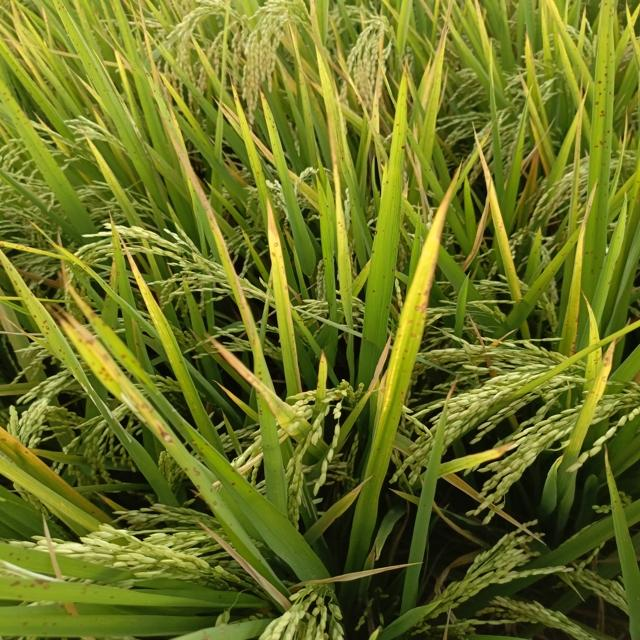Brown spot: (433, 436, 552, 548), (196, 520, 296, 612), (160, 113, 231, 237), (203, 329, 291, 429), (270, 558, 427, 594), (585, 318, 637, 411), (454, 176, 498, 273), (419, 0, 455, 113), (105, 212, 152, 296), (571, 178, 599, 284), (469, 118, 504, 197), (324, 122, 351, 224), (437, 440, 521, 472), (428, 368, 464, 437), (464, 310, 499, 377), (362, 331, 395, 396), (260, 194, 286, 238), (310, 349, 332, 392)
brown plant hopper: (72, 373, 134, 448), (114, 391, 148, 424)
insects: (0, 247, 70, 367), (592, 0, 621, 175), (182, 465, 230, 508), (192, 435, 221, 458)
